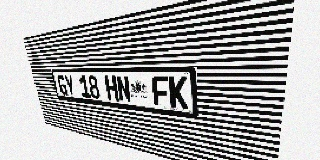1: (78, 75, 91, 98)
8: (87, 75, 101, 99)
F: (151, 76, 170, 107)
G: (57, 75, 68, 95)
H: (104, 76, 119, 101)
K: (168, 76, 188, 109)
N: (116, 76, 131, 103)
Y: (64, 75, 76, 96)
